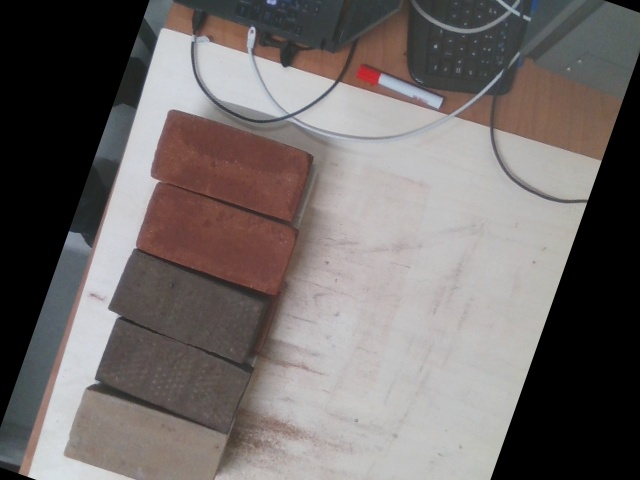brick: (108, 250, 270, 364), (135, 184, 298, 296), (148, 111, 311, 219), (93, 320, 247, 432), (63, 391, 227, 479)
